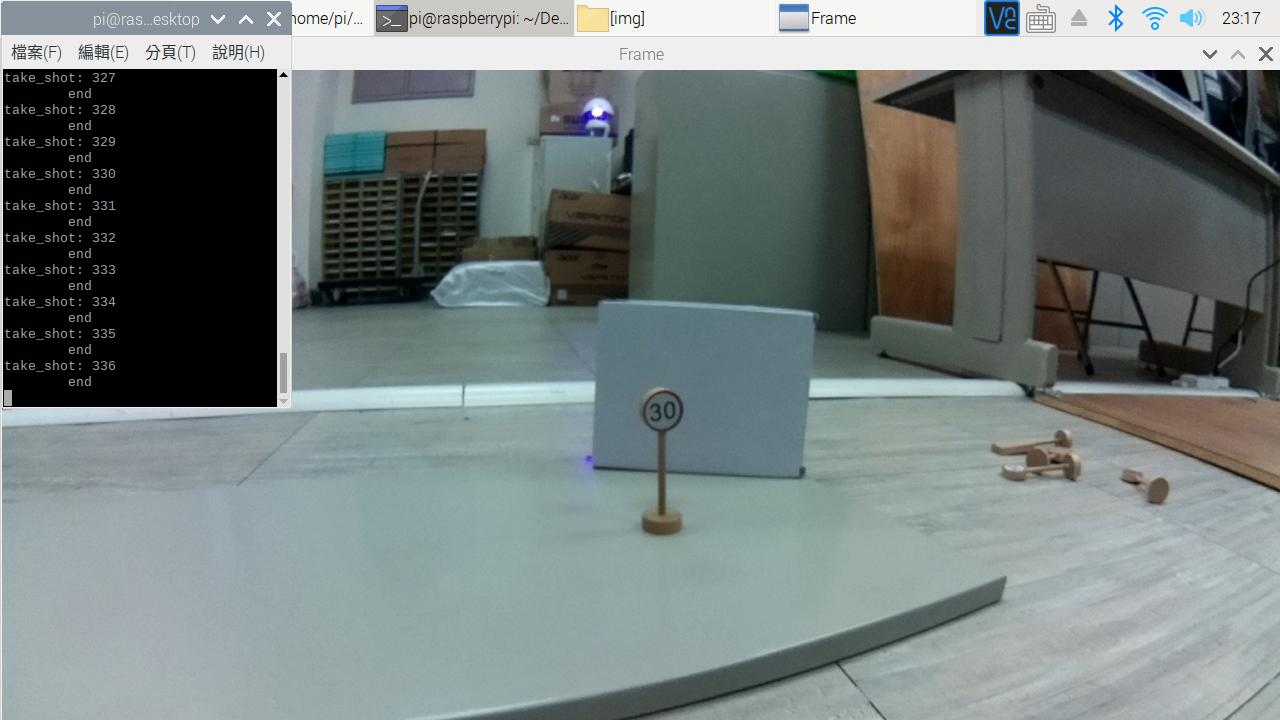Speed30: (631, 374, 689, 440)
